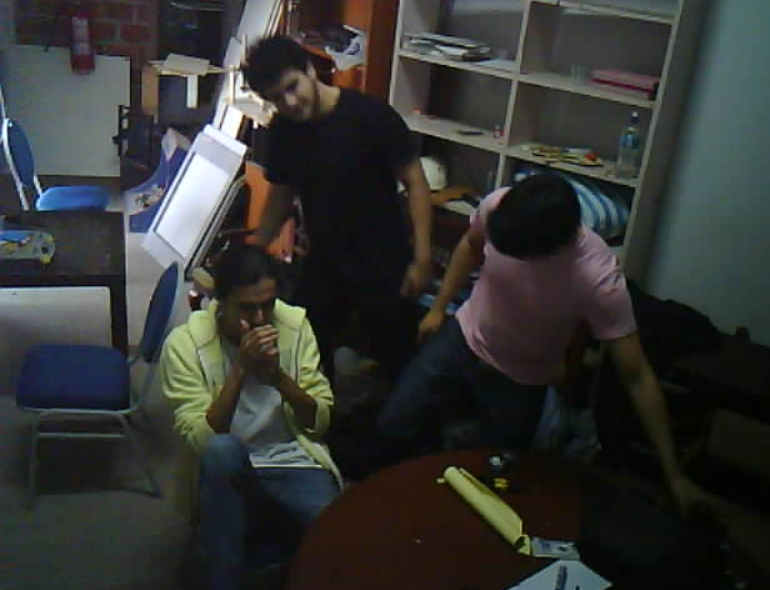person: (363, 155, 716, 568), (144, 241, 358, 590), (221, 22, 435, 302)
